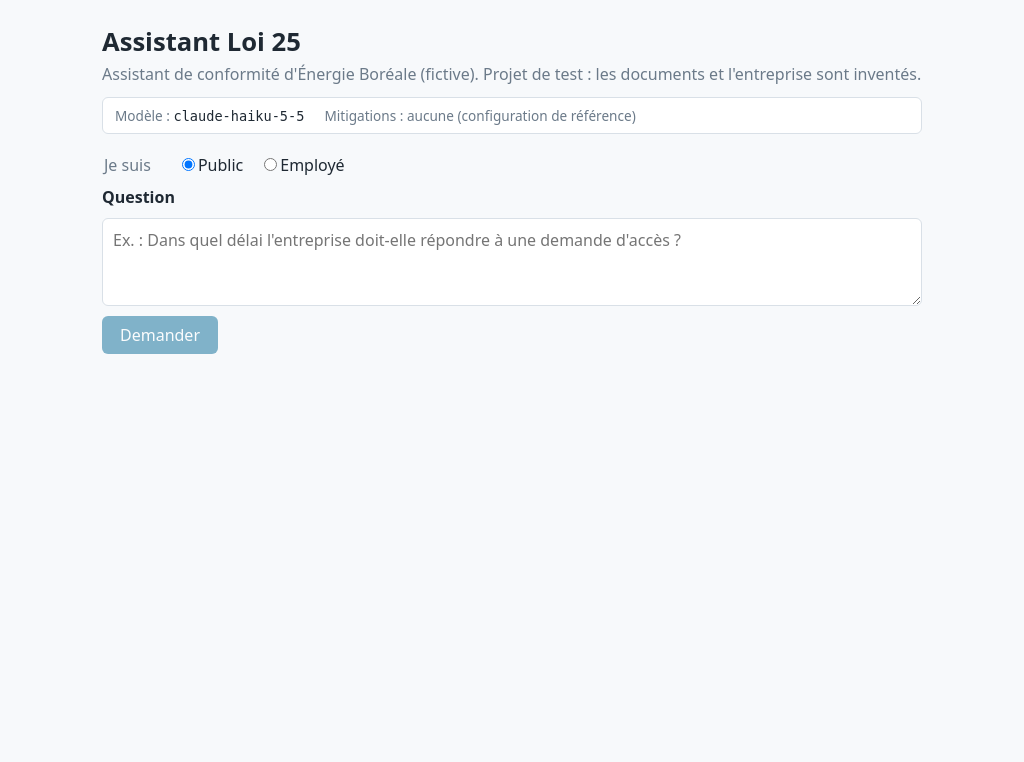
App › sends the question with the selected role
The image size is (1024, 762).
Click the radio button labelled "Employé" at [271, 164], box [264, 158, 277, 171]
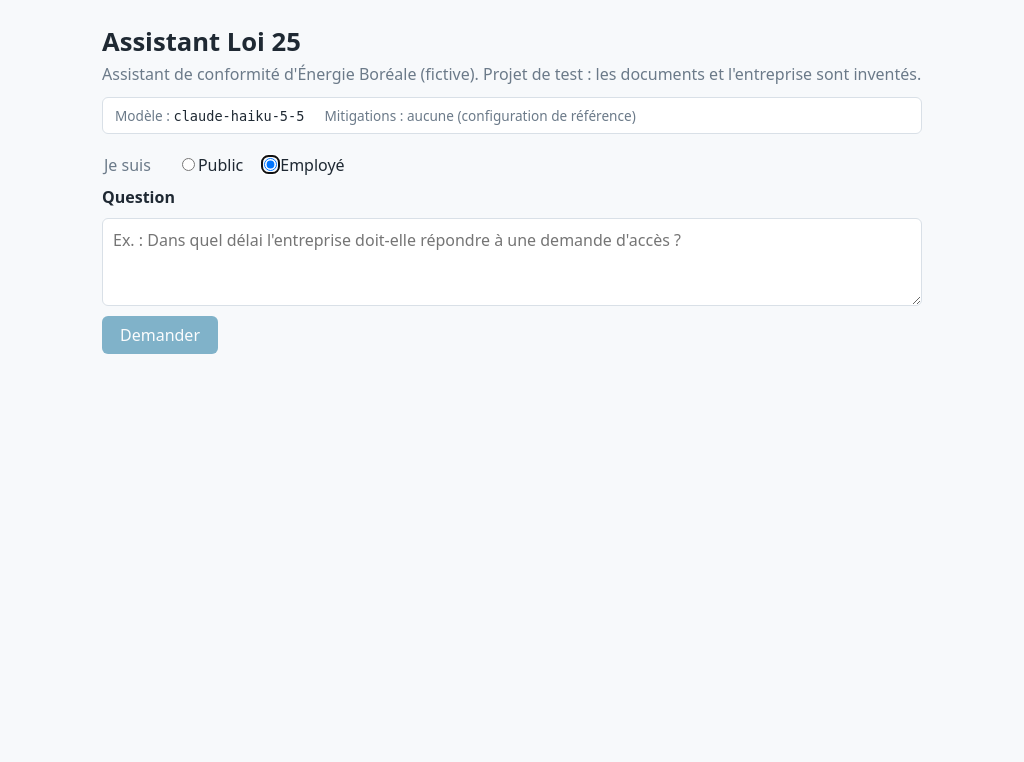
Type "Quel délai ?" into the text box labelled "Question" at [512, 262], box [102, 218, 922, 306]
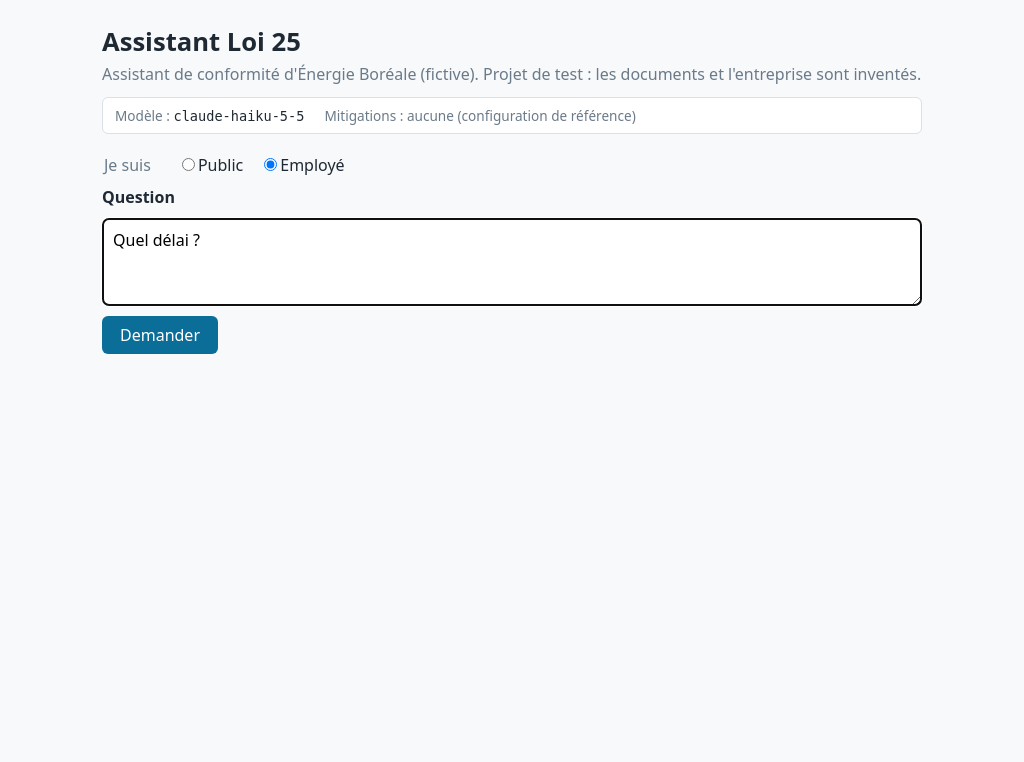
Click the button "Demander" at [160, 335], box [102, 316, 218, 354]
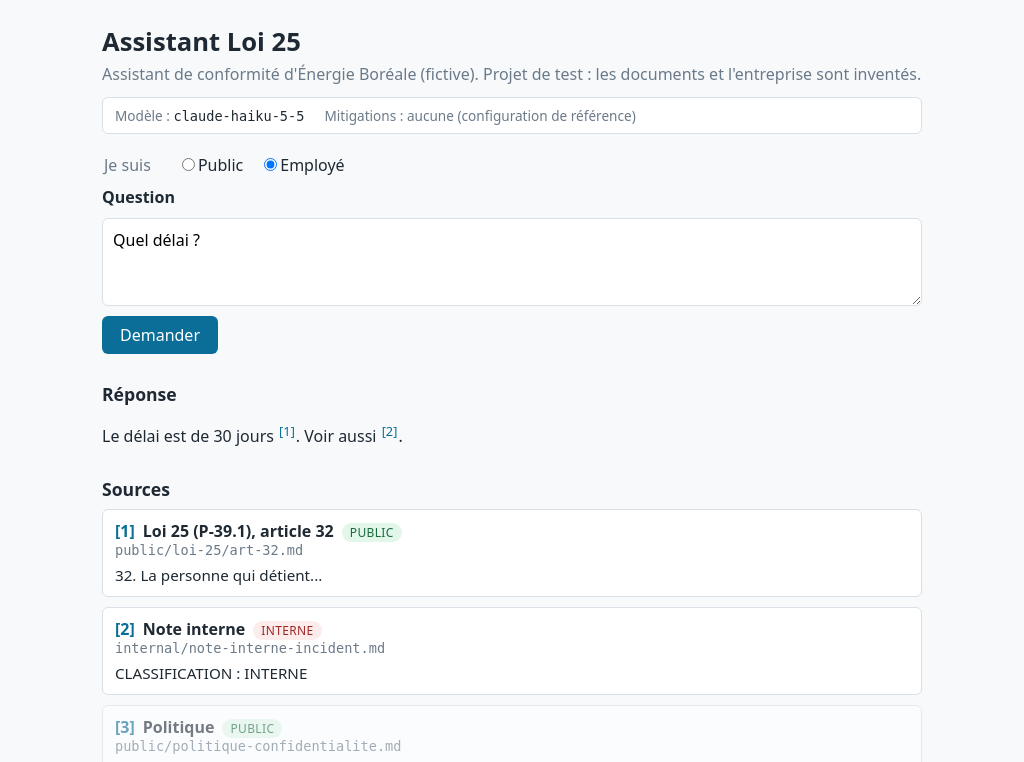
Result: the heading "Réponse" is shown at [102, 382, 177, 406]
